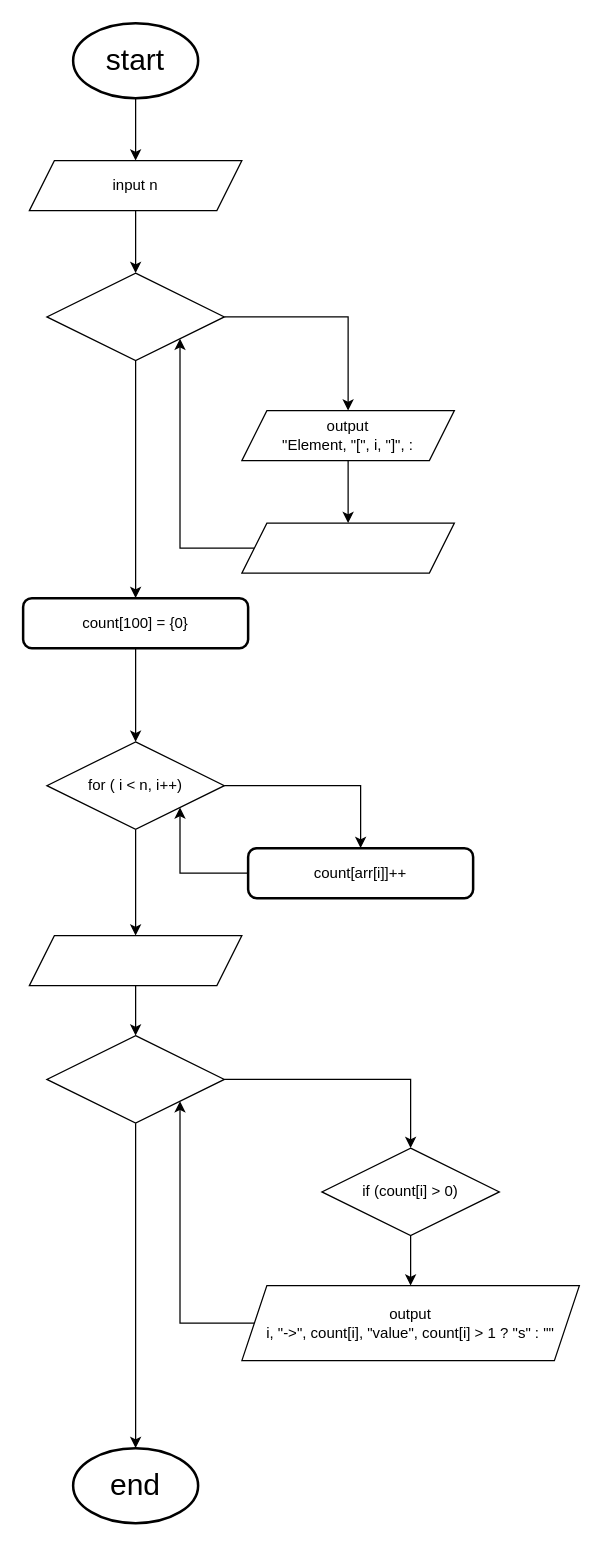
Some shapes in this 601 by 1545 pixel diagram are drawn without their labels. The shapes that lost their labels are listed below. From the top down, each one's centre as x and y in pixels, then its label:
point 135,316: for (i < n, i++)
point 347,547: input arr[i]
point 135,960: output "Output:"
point 135,1078: for (i < 100, i++)
